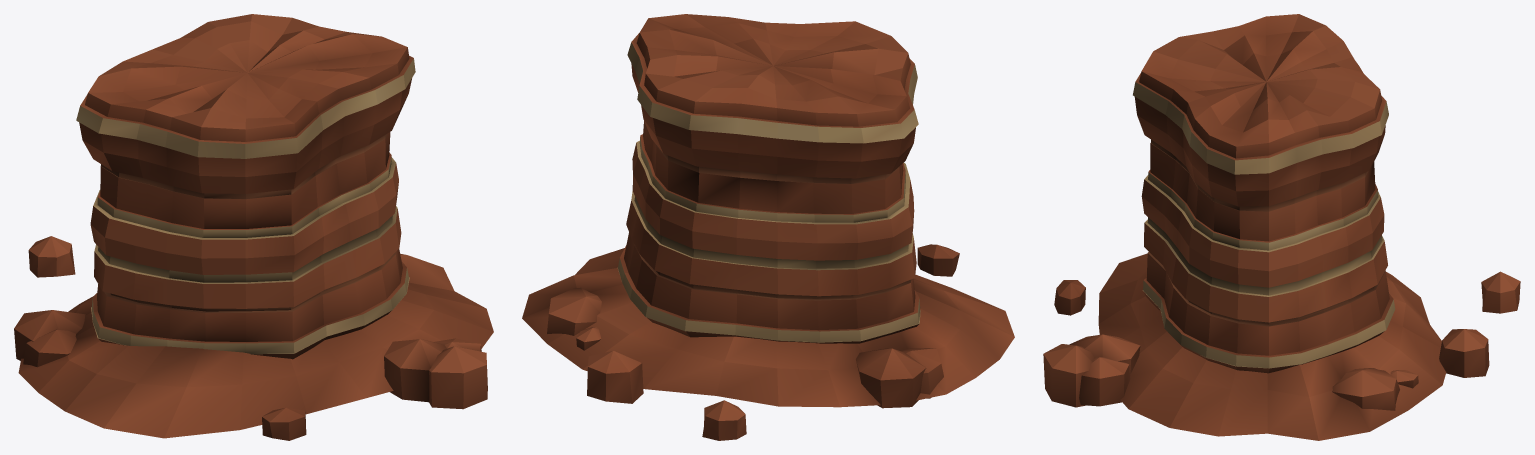
Rendered from sea_stack_b.glb.
3 views of the same model, side by side, from view 1: azimuth 30°, elevation 25°; view 2: azimuth 150°, elevation 25°; view 3: azimuth 270°, elevation 25° (orthographic). The views are drawn at different scales.
Parts seen in each view (by area): view 1: rock_red, sand, dirt_red; view 2: rock_red, sand, dirt_red; view 3: rock_red, sand, dirt_red.
Part boxes in pixels (x1,y1,x2,y2): rock_red: (14,14,493,440); sand: (76,58,415,354); dirt_red: (101,134,395,312); rock_red: (522,14,1014,440); sand: (617,42,920,342); dirt_red: (638,145,911,300); rock_red: (1043,14,1520,440); sand: (1133,82,1395,368); dirt_red: (1148,139,1385,326).
Size of what is drawn, in the model's own units: 40.97 by 26.41 by 41.3.
